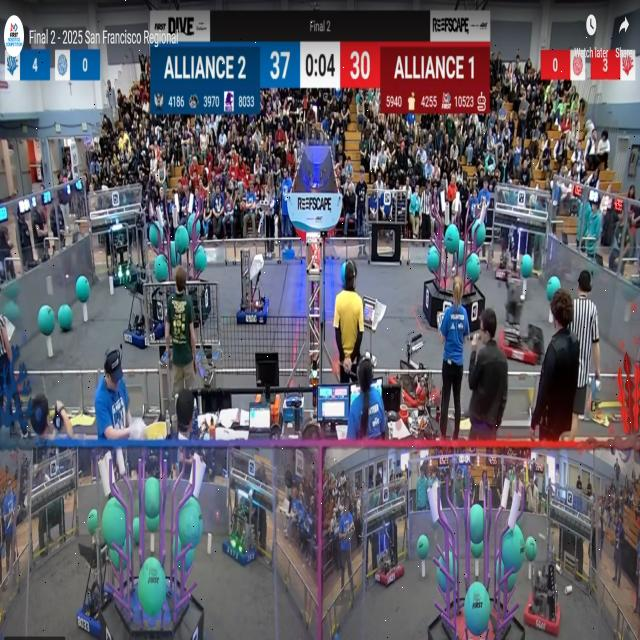Robot-YfA7: (75, 509, 104, 636), (501, 296, 545, 364), (526, 557, 565, 633), (121, 274, 161, 348), (235, 250, 270, 326), (220, 509, 258, 566), (375, 516, 404, 585), (491, 227, 522, 283), (112, 224, 136, 288)
